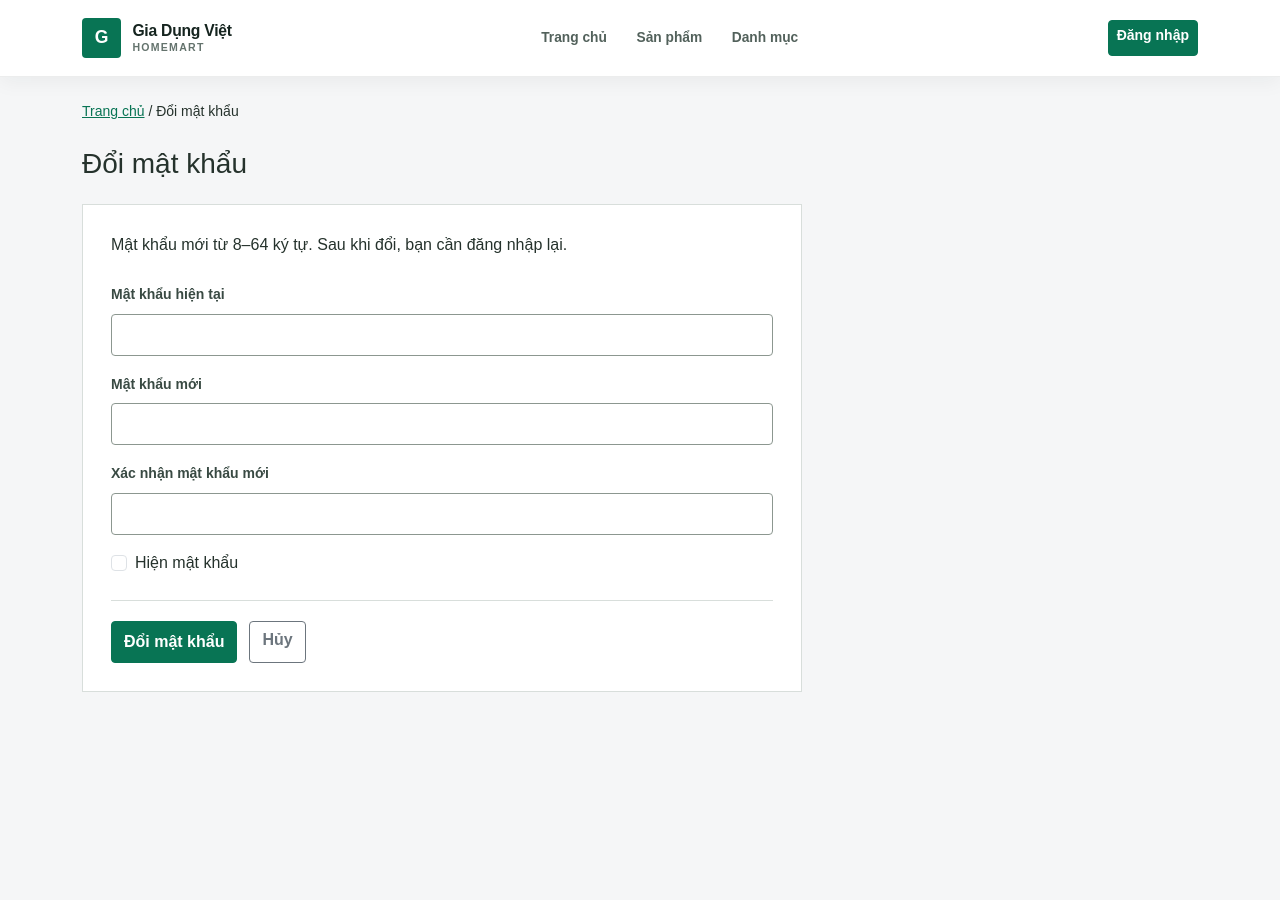
Test: reveals and hides password fields only when requested without sending them
The width and height of the screenshot is (1280, 900).
Type "old password" into the password field labelled "Mật khẩu hiện tại".
click(442, 335); type("old password")  # box [111, 314, 773, 356]
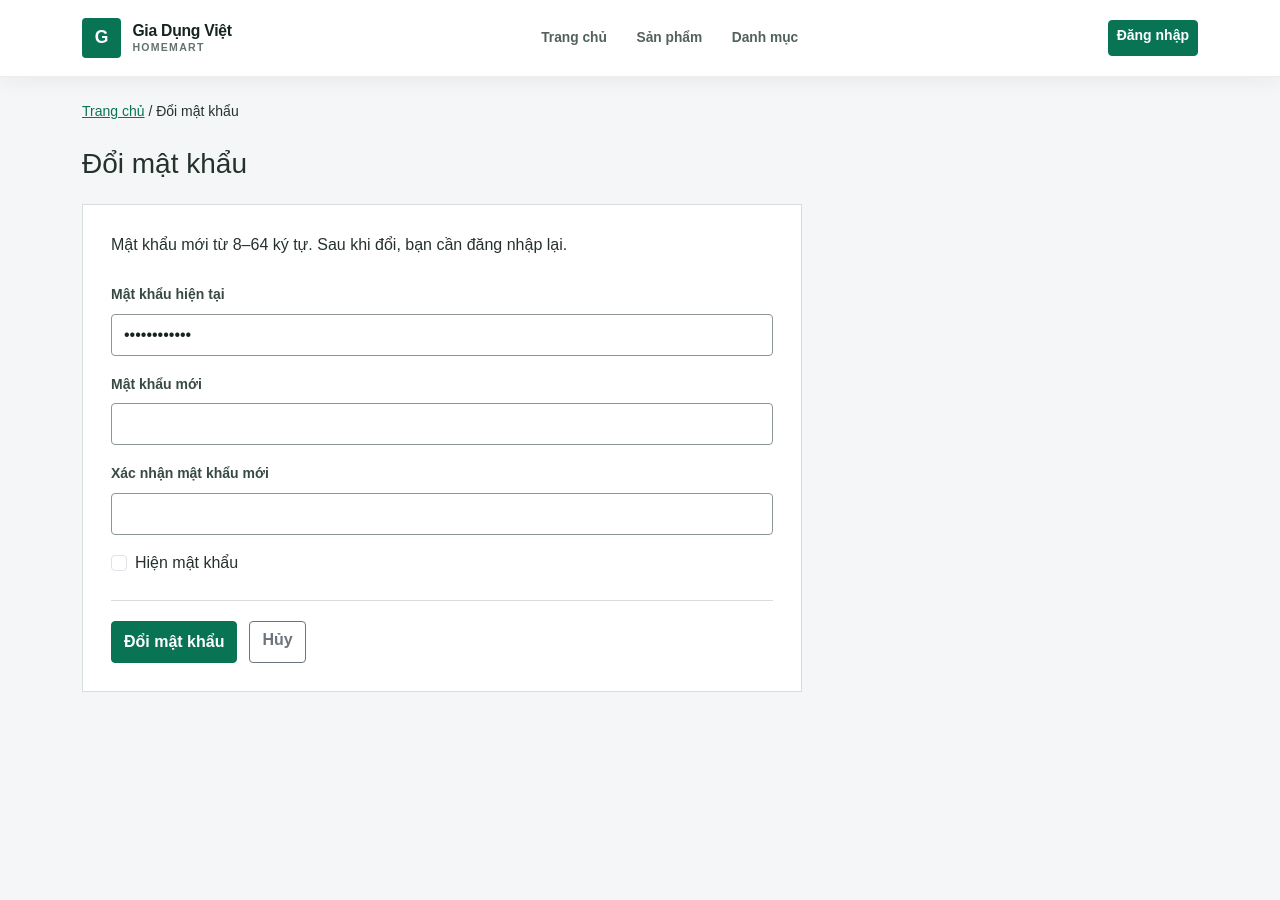
Type "new password" into the password field labelled "Mật khẩu mới".
click(442, 424); type("new password")  # box [111, 404, 773, 446]
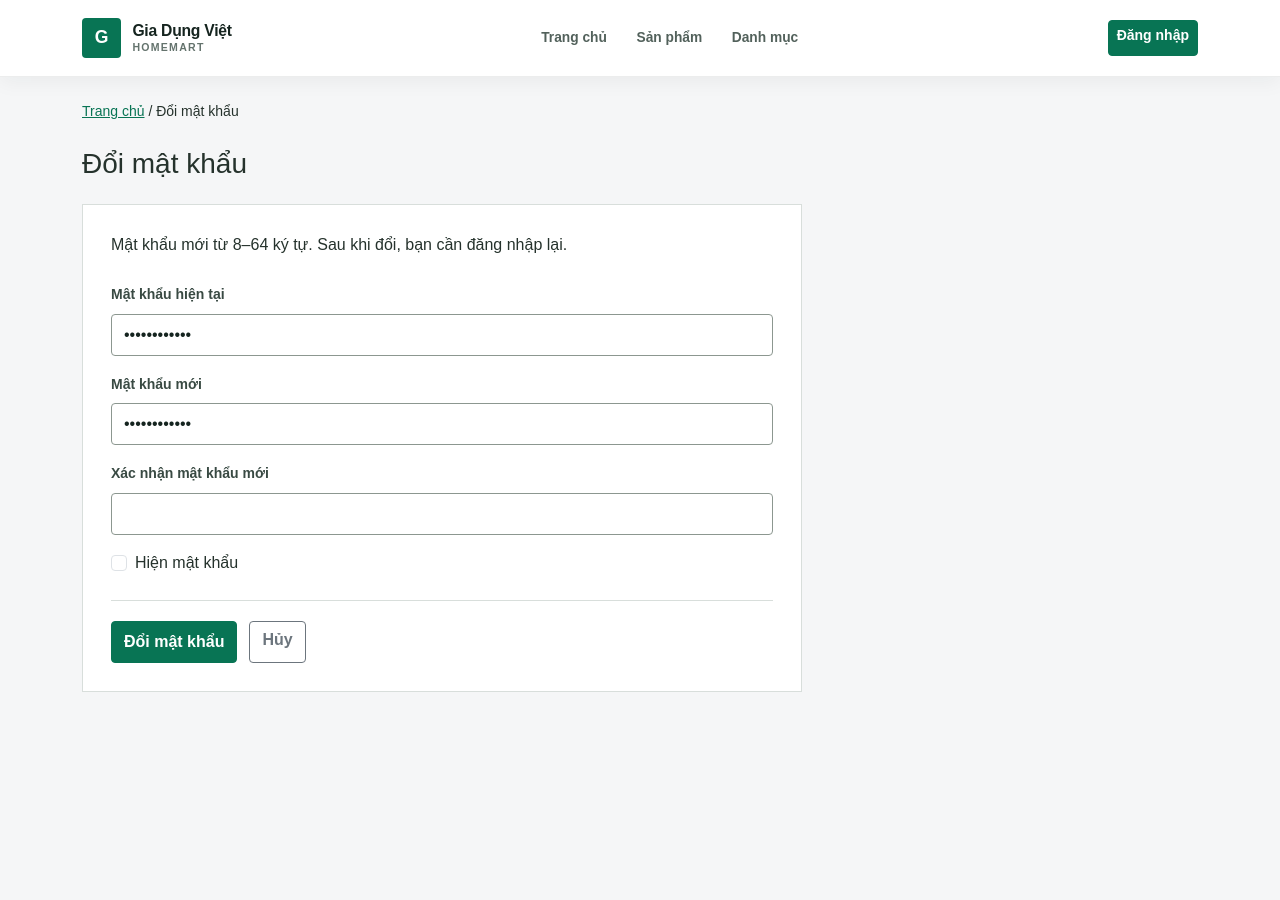
Type "new password" into the password field labelled "Xác nhận mật khẩu mới".
click(442, 514); type("new password")  # box [111, 493, 773, 535]
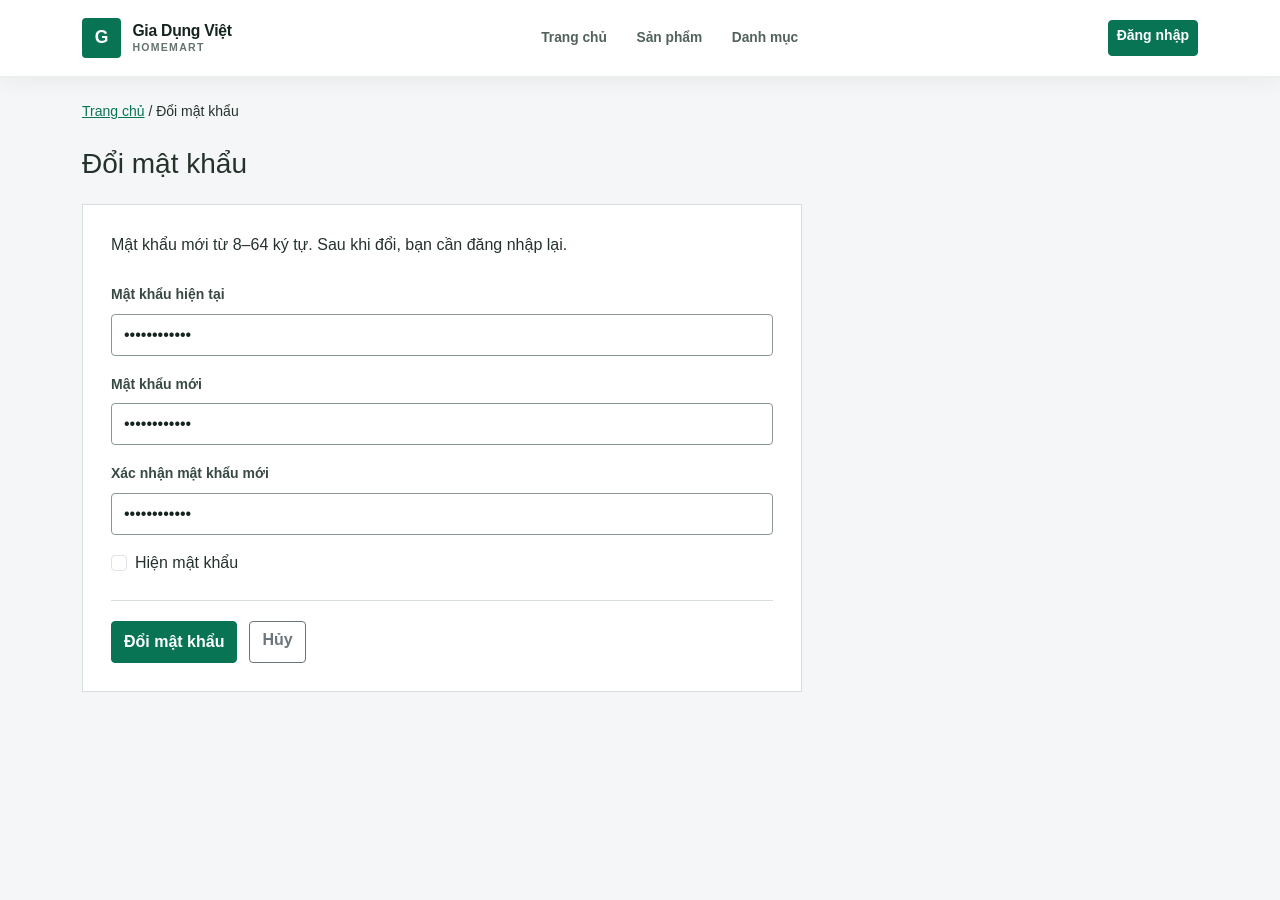
Click the checkbox labelled "Hiện mật khẩu".
click(119, 563)  # box [111, 555, 127, 571]
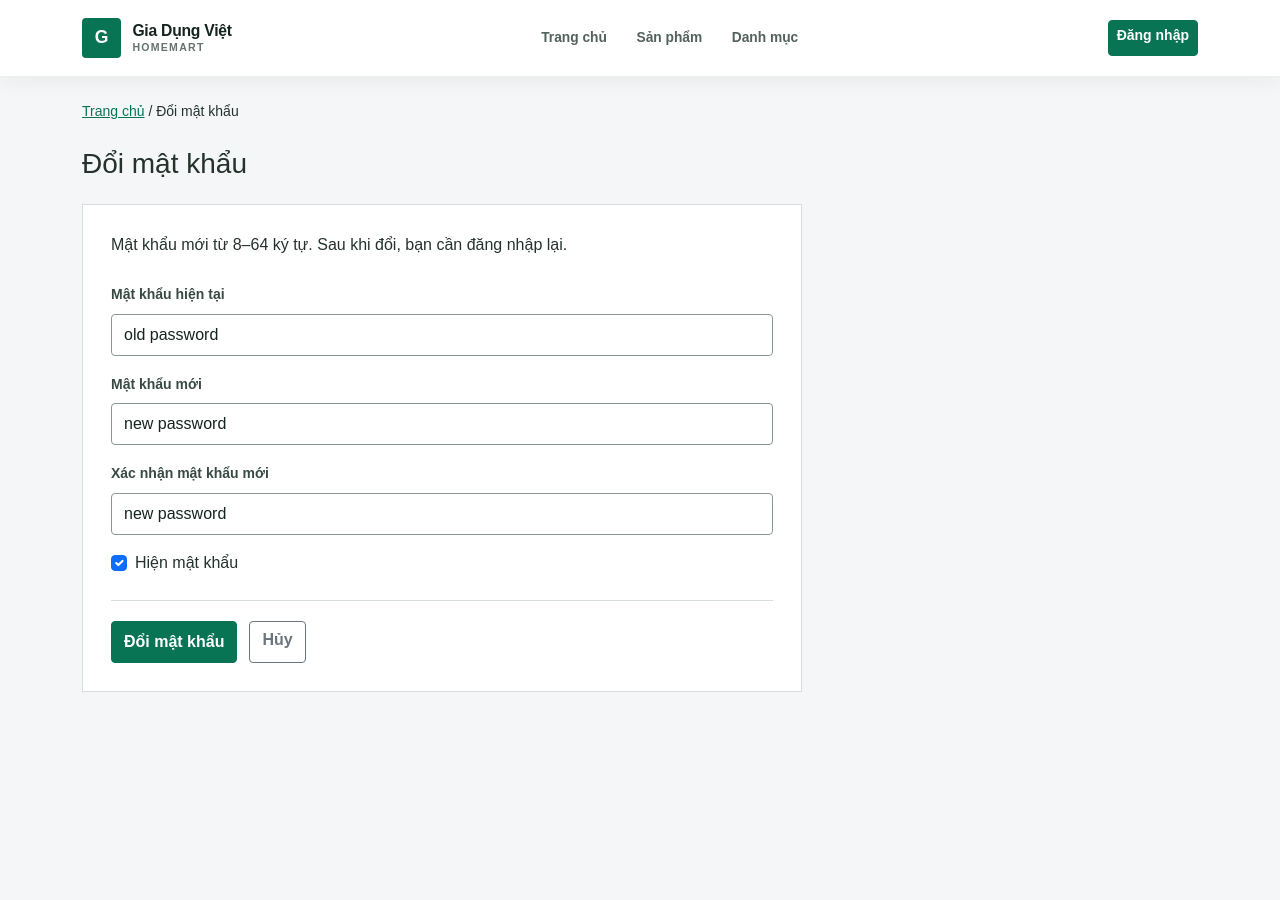
Expected: the field labelled "Mật khẩu hiện tại" shows its text, [111, 314, 773, 356]
Expected: the field labelled "Mật khẩu mới" shows its text, [111, 404, 773, 446]
Expected: the field labelled "Xác nhận mật khẩu mới" shows its text, [111, 493, 773, 535]
Click the checkbox labelled "Hiện mật khẩu".
click(119, 563)  # box [111, 555, 127, 571]
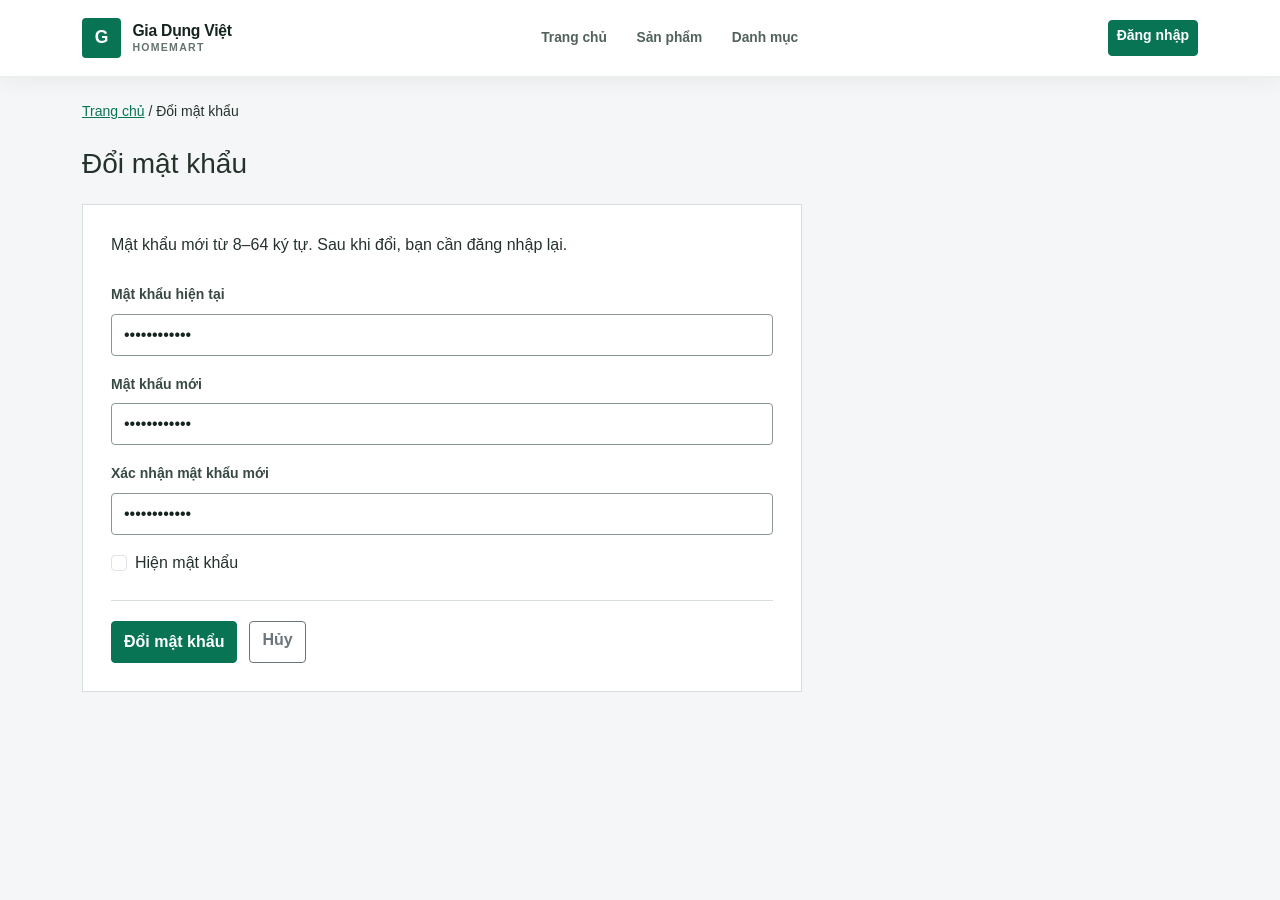
Expected: the password field labelled "Mật khẩu hiện tại" hides its text, [111, 314, 773, 356]
Expected: the password field labelled "Mật khẩu mới" hides its text, [111, 404, 773, 446]
Expected: the password field labelled "Xác nhận mật khẩu mới" hides its text, [111, 493, 773, 535]
